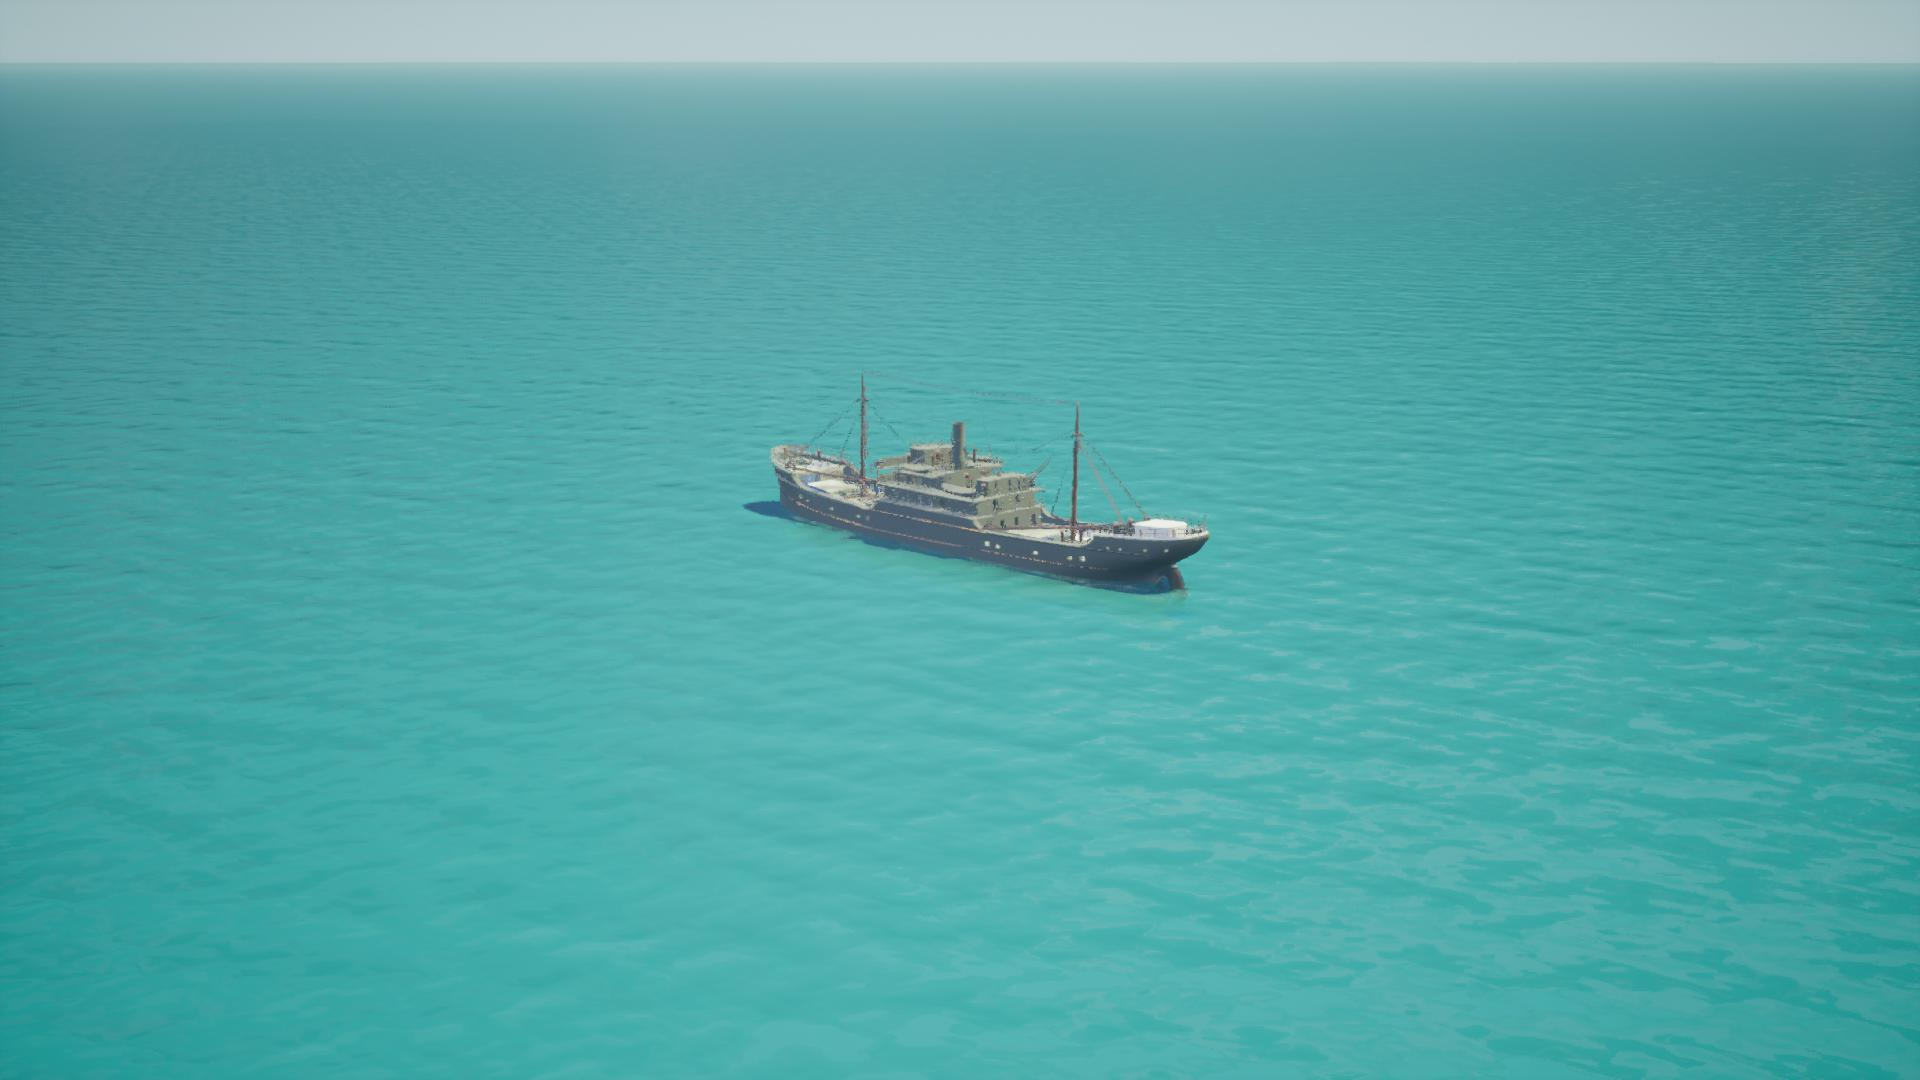Fishing Boat: (757, 380, 1208, 591)
